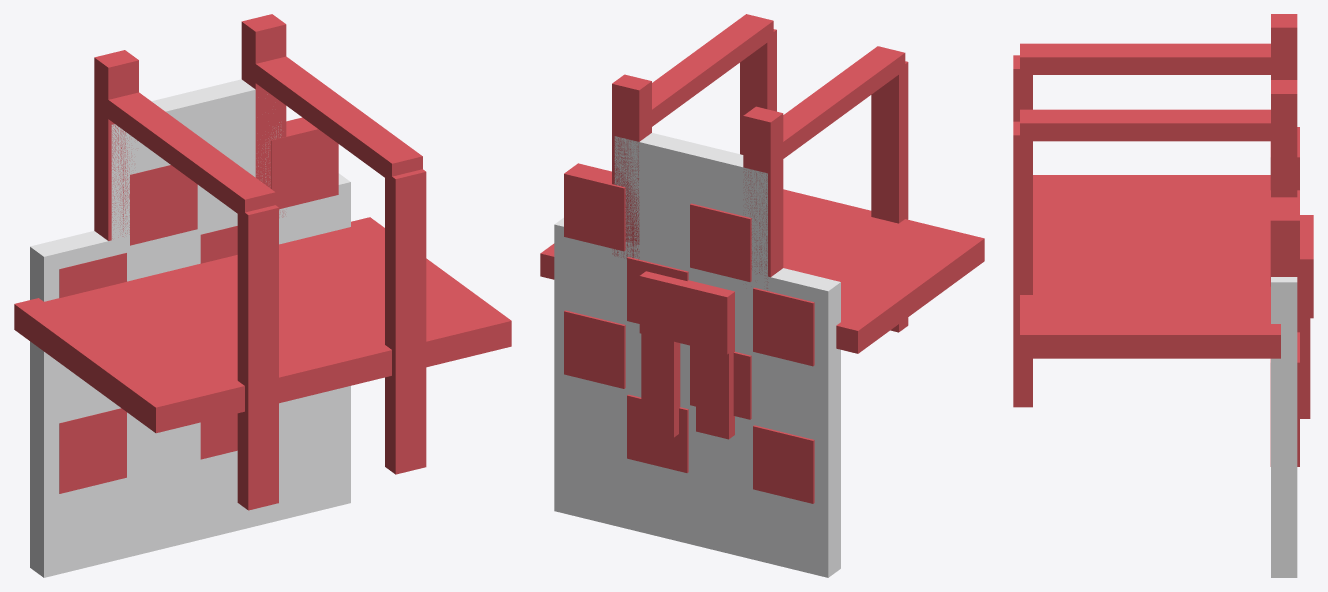
File: avental_xadrez.glb
3 renders of one model, left to right at view 1: azimuth 30°, elevation 25°; view 2: azimuth 150°, elevation 25°; view 3: azimuth 270°, elevation 25°, orthographic. The views are drawn at different scales.
Visible parts, largest first — view 1: avental_xadrez; view 2: avental_xadrez; view 3: avental_xadrez.
Part boxes in pixels (x1=…): avental_xadrez: x1=14, y1=14, x2=511, y2=577; avental_xadrez: x1=540, y1=14, x2=984, y2=577; avental_xadrez: x1=1013, y1=14, x2=1313, y2=577.
Size of the model in its own units: 0.58 by 0.77 by 0.46.
